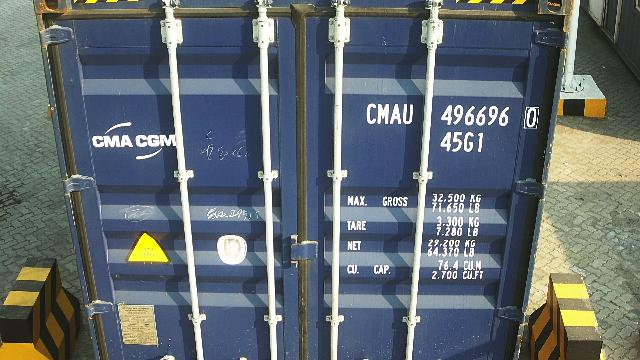0: (525, 106, 539, 128)
4: (442, 104, 452, 126)
6: (464, 106, 476, 127), (498, 106, 510, 127), (476, 106, 486, 127)
9: (452, 104, 463, 126), (488, 106, 498, 127)
A: (390, 103, 402, 125)
C: (366, 103, 376, 125)
M: (377, 103, 389, 125)
U: (402, 103, 413, 125)
